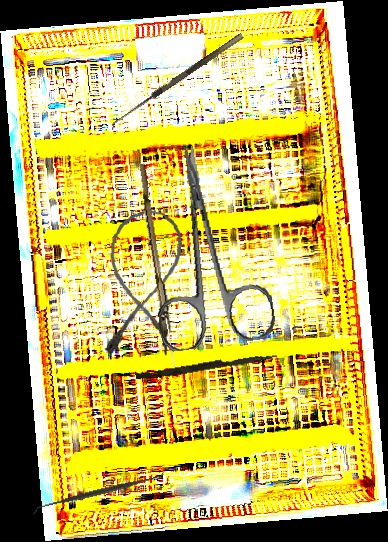Cannula: (100, 207, 185, 359)
Hook Surgical: (109, 33, 249, 133)
Iris Scissors: (135, 137, 278, 354)
Pusher: (135, 348, 278, 384)
Spatula Surgical: (30, 468, 168, 517)
Surgical Spoon: (134, 163, 181, 371)
